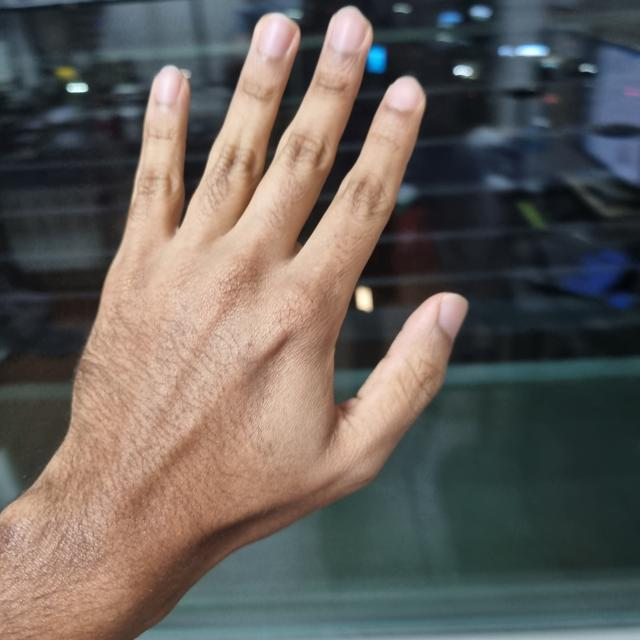Paper: (60, 8, 459, 593)
